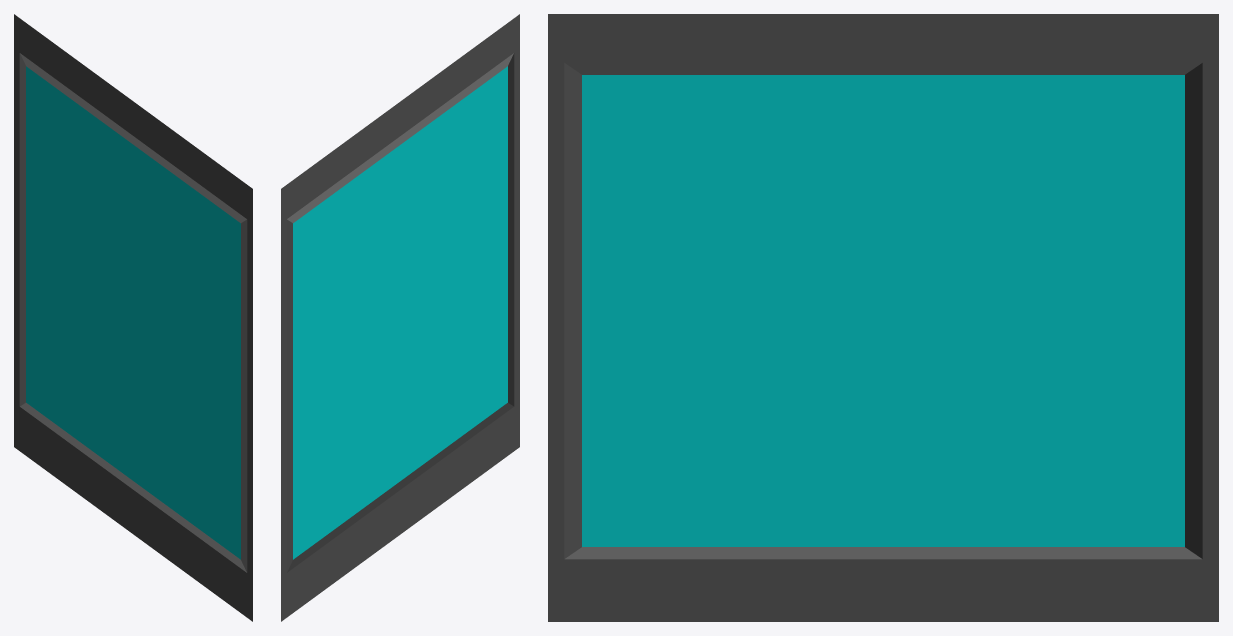
Rendered from milit_wall_window_01_LOD1.fbx.
3 views of the same model, side by side, from view 1: azimuth 30°, elevation 25°; view 2: azimuth 150°, elevation 25°; view 3: azimuth 270°, elevation 25° (orthographic). The views are drawn at different scales.
Parts seen in each view (by area): view 1: milit_wall_window_01_LOD1; view 2: milit_wall_window_01_LOD1; view 3: milit_wall_window_01_LOD1.
Part boxes in pixels (x1,y1,x2,y2): milit_wall_window_01_LOD1: (14,14,252,621); milit_wall_window_01_LOD1: (281,14,519,621); milit_wall_window_01_LOD1: (548,14,1218,621).
Size of the model in its own units: 1.86e-07 by 3 by 3.
